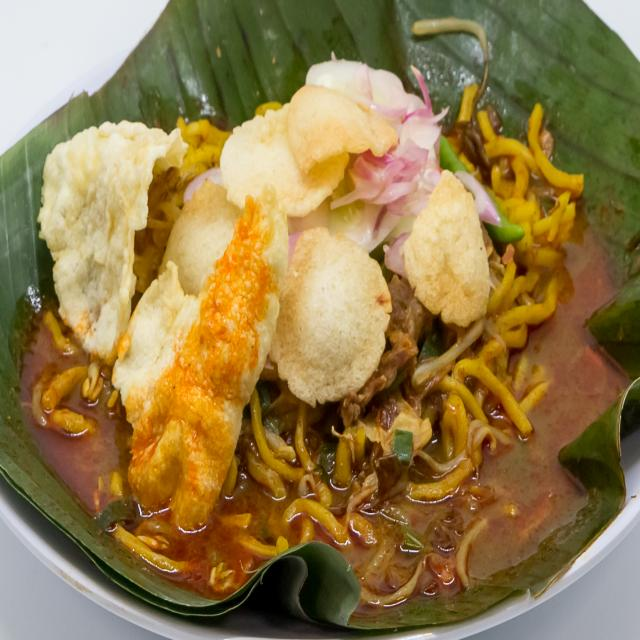Mie-Aceh: (16, 42, 588, 616)
